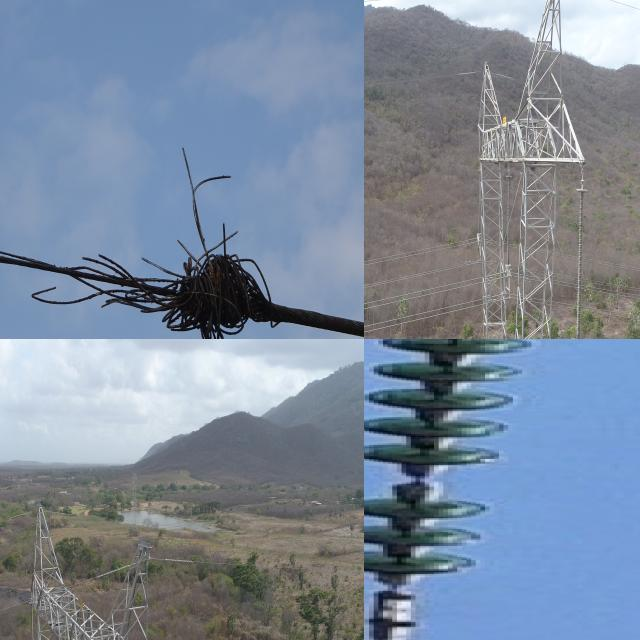杆塔: (461, 0, 599, 339), (25, 498, 192, 640)
正常绝缘子: (364, 339, 562, 640), (571, 185, 588, 339), (505, 174, 513, 268), (477, 171, 482, 239), (29, 601, 36, 640)
电缆破损: (0, 145, 274, 339)
绝缘子破损: (390, 468, 445, 489)
